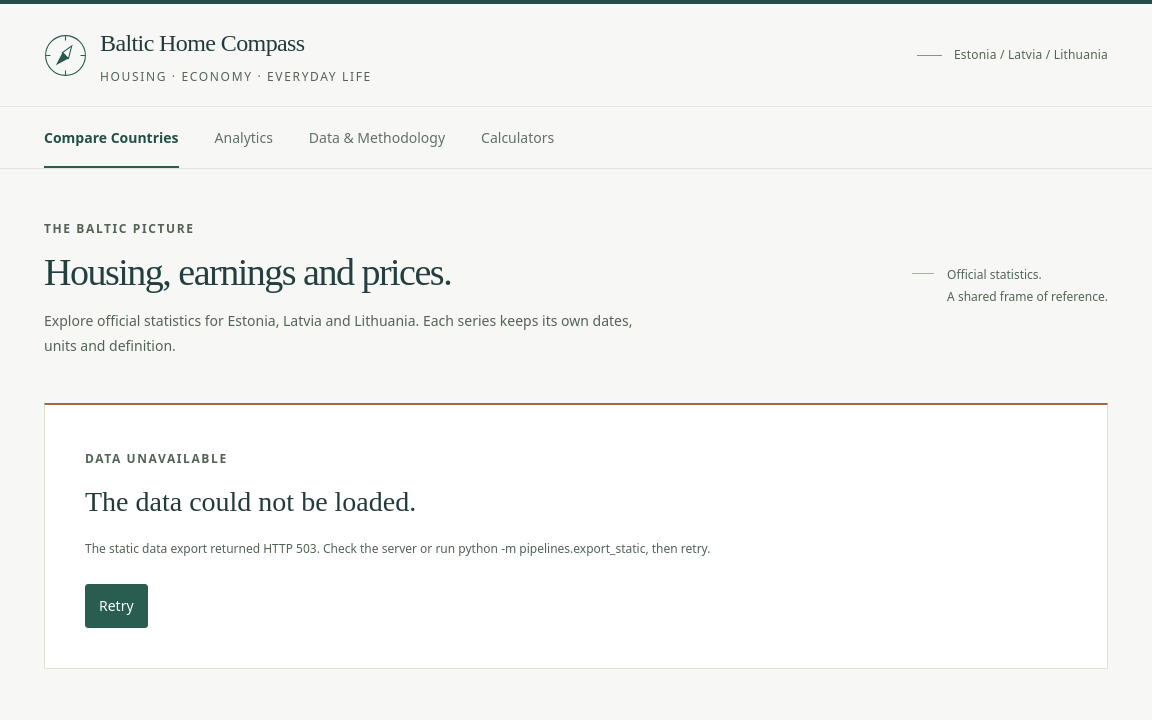
data states › reports API errors and retries loading data
Expected: the message shows "HTTP 503", [85, 540, 710, 557]
Click the button "Retry": {"x": 116, "y": 606} [85, 584, 148, 628]
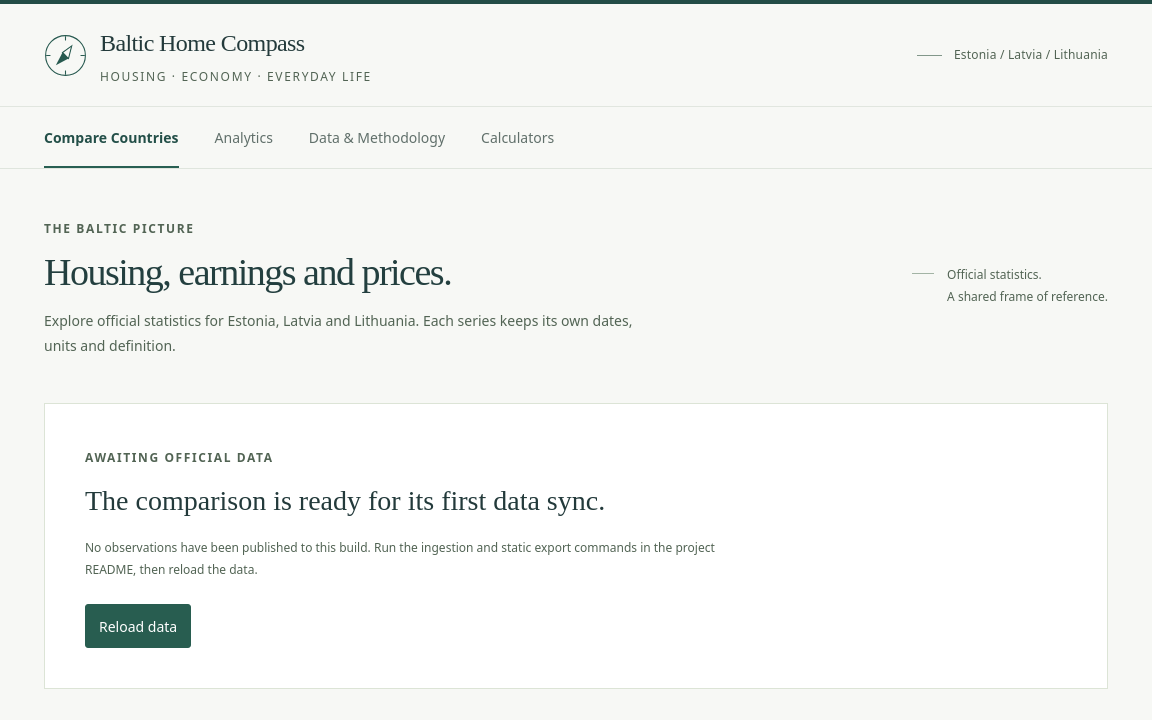
Now the heading "The comparison is ready for its first data sync." is shown, box [85, 485, 605, 516]
